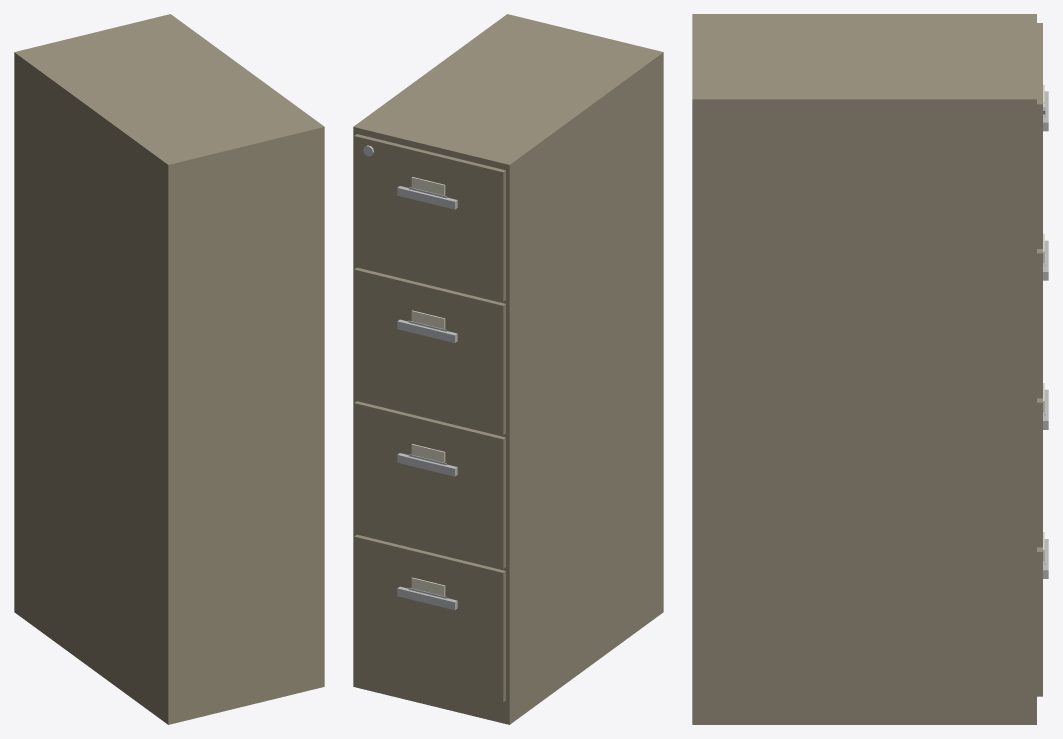
File: SM_80s_FileCabinet4.glb
The picture shows the model from 3 angles, left to right: view 1: azimuth 30°, elevation 25°; view 2: azimuth 150°, elevation 25°; view 3: azimuth 270°, elevation 25°; orthographic projection. The views are drawn at different scales.
Parts seen in each view (by area): view 1: SM_80s_FileCabinet4; view 2: SM_80s_FileCabinet4; view 3: SM_80s_FileCabinet4.
Part boxes in pixels (<box>): SM_80s_FileCabinet4: <box>14,14,324,724</box>; SM_80s_FileCabinet4: <box>353,14,663,724</box>; SM_80s_FileCabinet4: <box>692,14,1048,724</box>.
Bounding box in the file's own units: 0.5016 × 1.72 × 0.8852.
